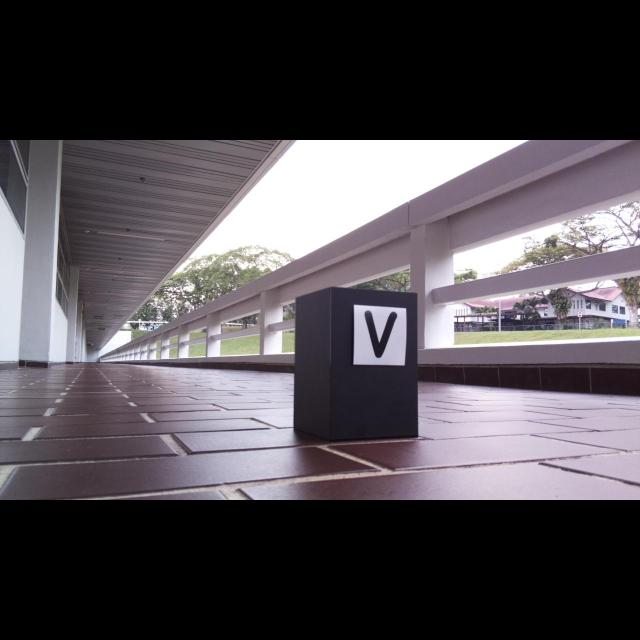V: (364, 310, 396, 358)
